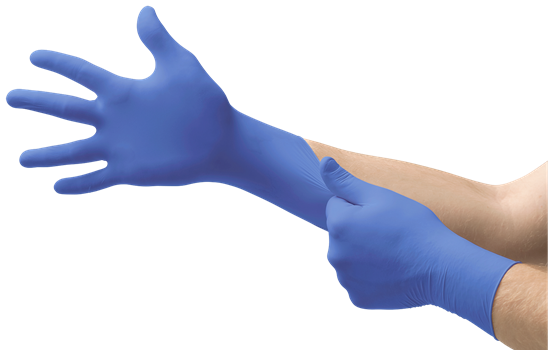Gloves: (6, 1, 250, 203), (311, 154, 492, 319)
